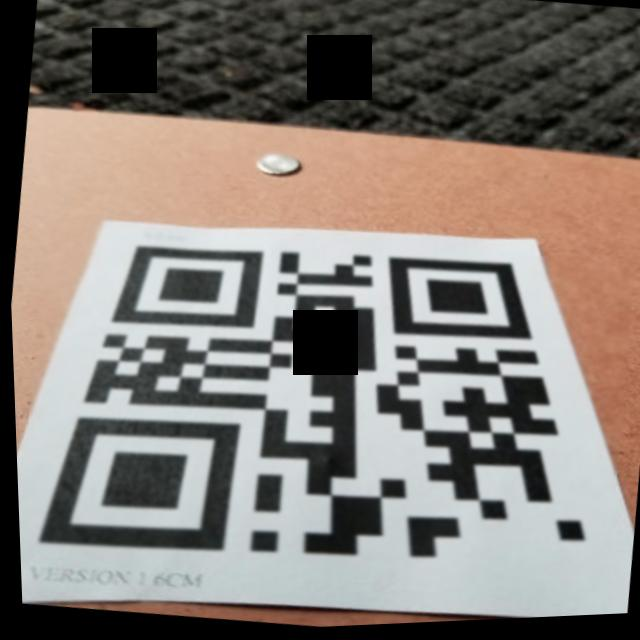QR_CODE: (6, 196, 640, 624)
